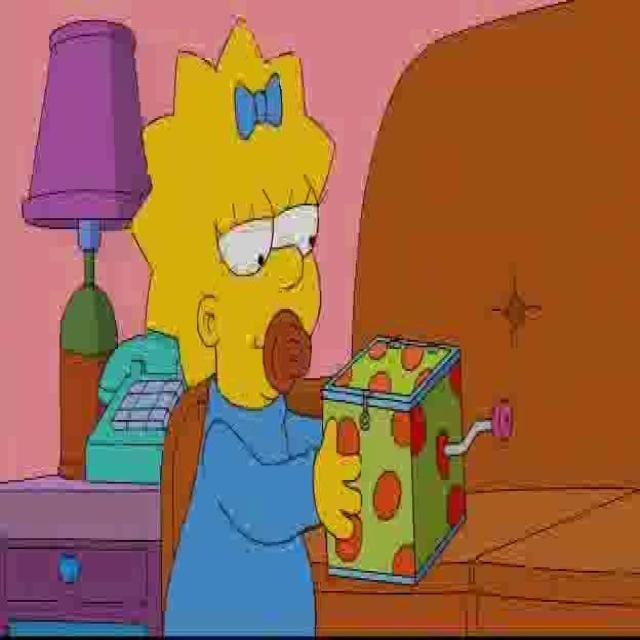Maggie Simpson: (129, 18, 337, 416)
